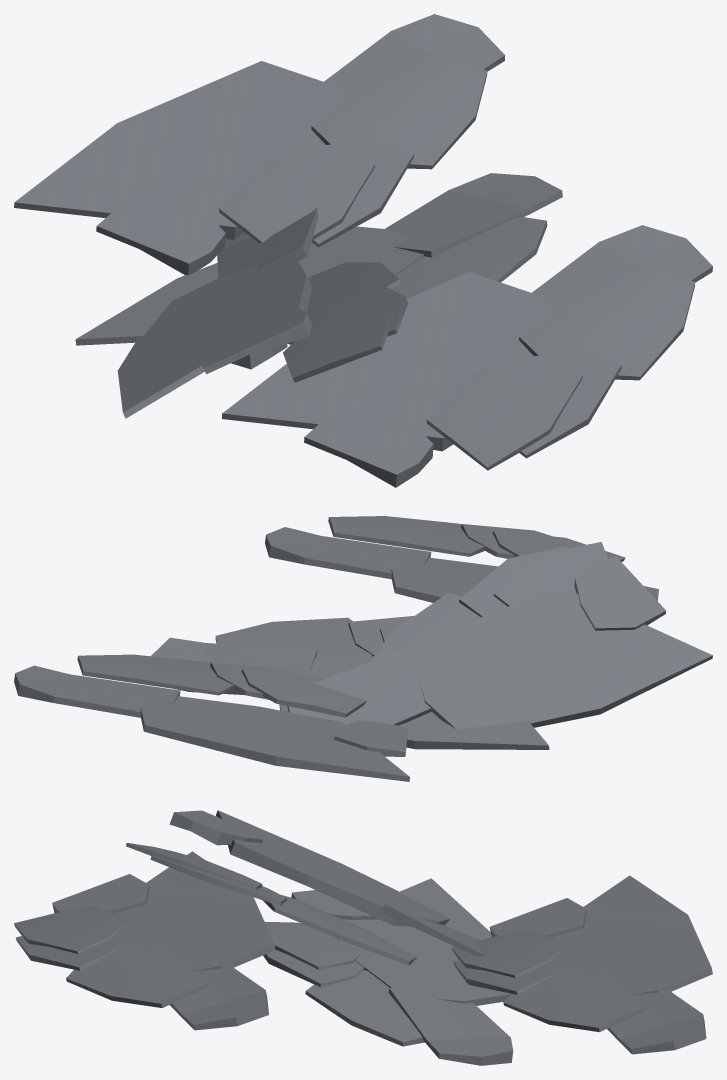
The model's file is puenteRotoAbajo.fbx.
3 views of the same model, one above another, from view 1: azimuth 30°, elevation 25°; view 2: azimuth 150°, elevation 25°; view 3: azimuth 270°, elevation 25° (orthographic). The views are drawn at different scales.
Visible parts, largest first — view 1: group78_polySurface361; view 2: group78_polySurface361; view 3: group78_polySurface361.
Part boxes in pixels (<box>): group78_polySurface361: <box>14,14,712,487</box>; group78_polySurface361: <box>14,516,712,781</box>; group78_polySurface361: <box>14,810,712,1065</box>.
Bounding box in the file's own units: 1198 × 230 × 1399.
